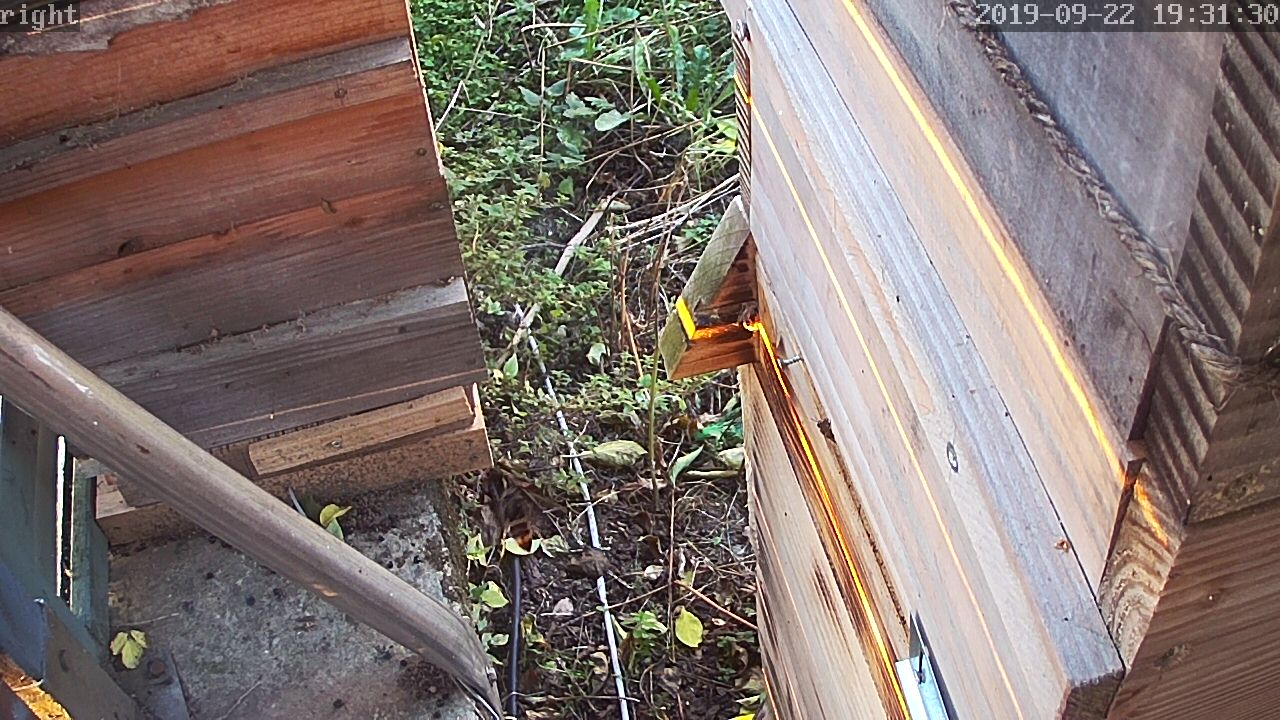bee: (812, 415, 840, 445)
hornet: (487, 473, 551, 559)
